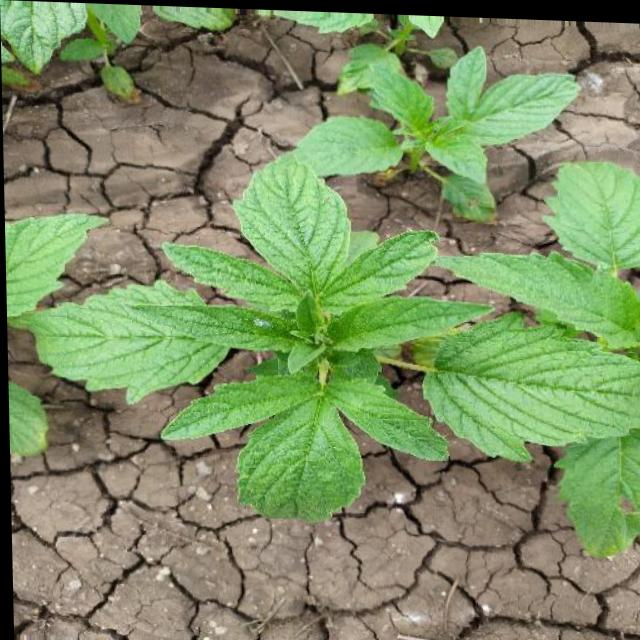crop: (23, 132, 507, 565), (432, 149, 640, 575), (265, 13, 591, 222)
